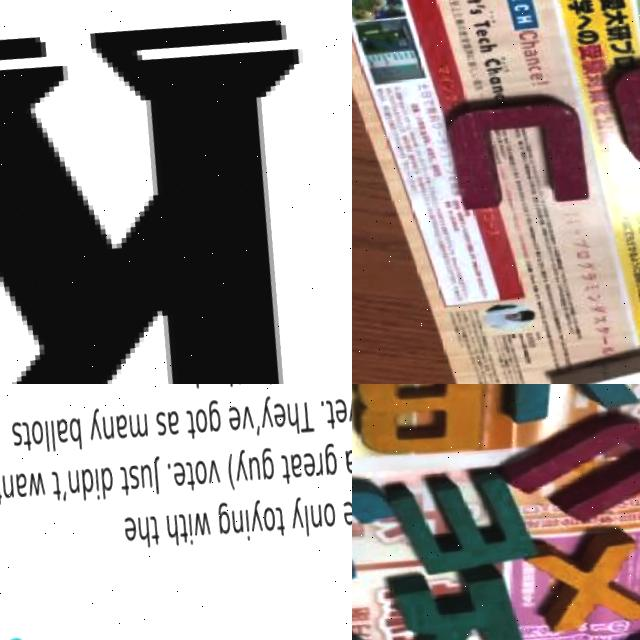J: (352, 462, 414, 590)
K: (0, 0, 352, 384), (392, 545, 545, 640)
M: (384, 450, 554, 579)
O: (602, 24, 640, 169)
R: (352, 384, 511, 462)
U: (442, 79, 615, 220), (498, 387, 640, 525)
V: (481, 384, 640, 423)
X: (530, 510, 640, 629)
Z: (554, 333, 640, 384)
